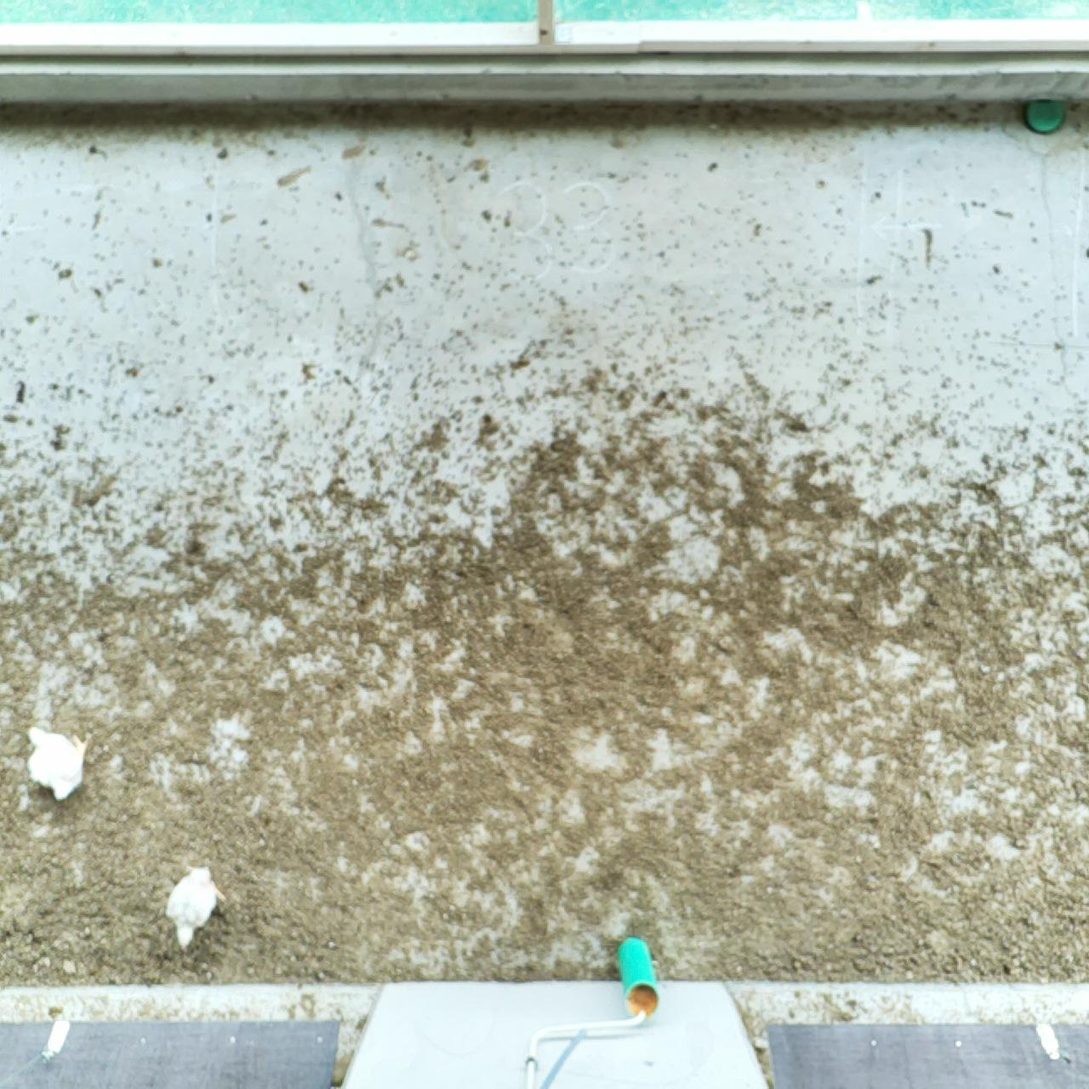chicken: (163, 857, 233, 953), (13, 721, 93, 804)
